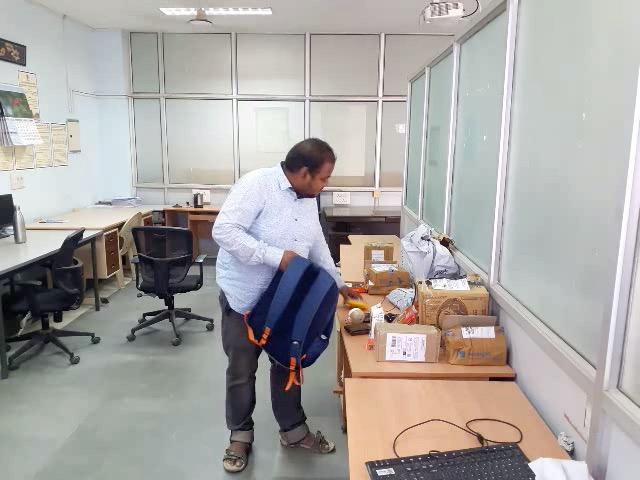shoplifting: (193, 214, 376, 374)
